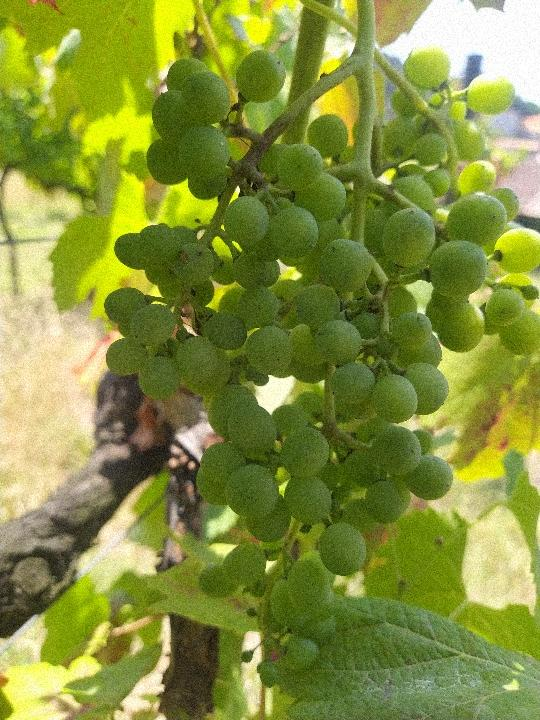grape: (103, 44, 537, 693)
